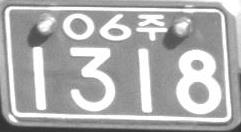0: (61, 12, 95, 41)
1: (127, 48, 168, 113), (22, 46, 62, 110)
3: (69, 46, 116, 111)
6: (98, 13, 132, 41)
8: (175, 48, 222, 115)
주: (136, 13, 168, 41)
